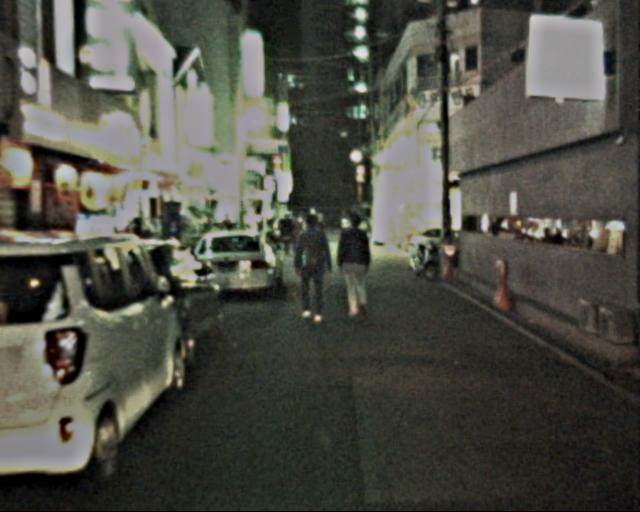person: (289, 209, 337, 326), (335, 215, 376, 314)
